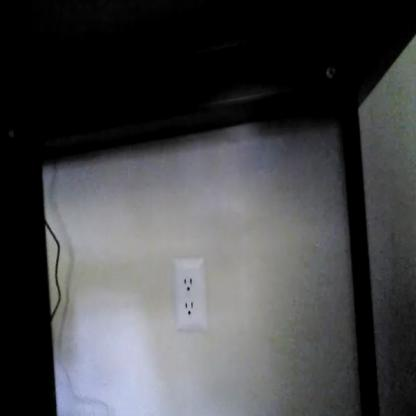OUTLET: (172, 257, 207, 331)
